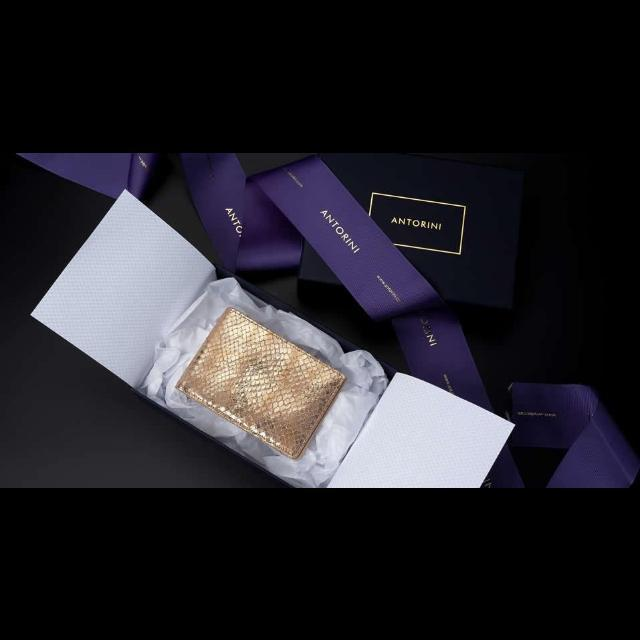wallet: (175, 304, 345, 461)
